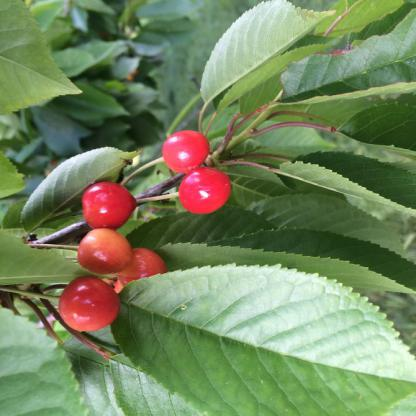Cherry leaf: (110, 257, 415, 415), (199, 1, 332, 117)
